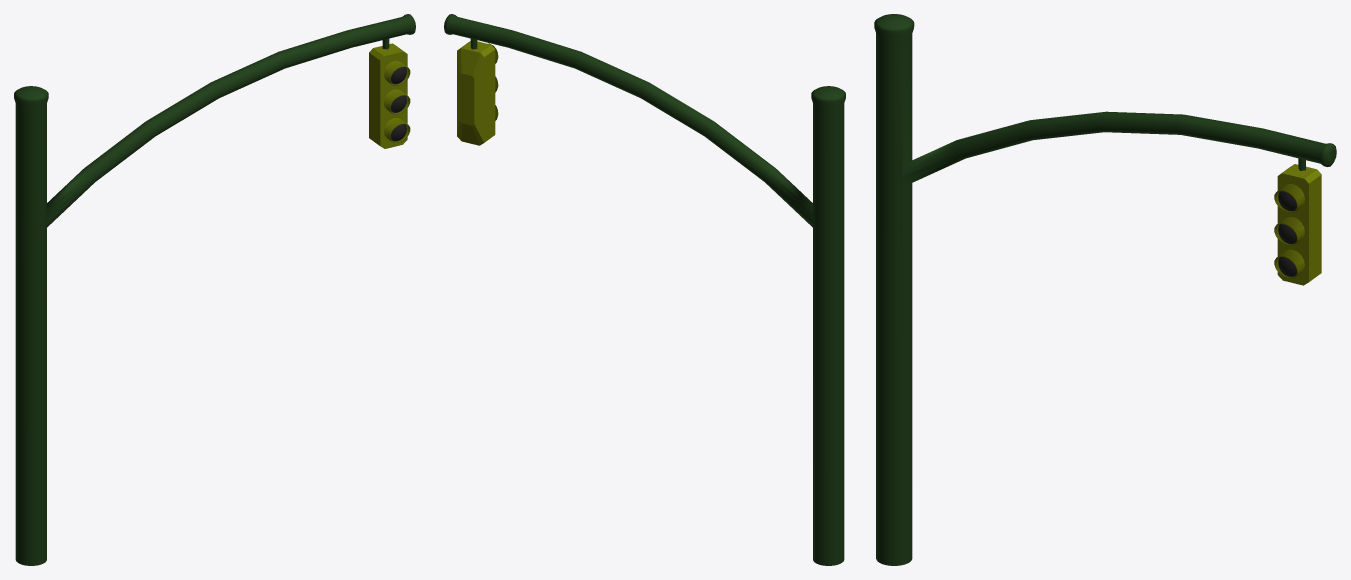
The model's file is traffic_light.glb.
3 views of the same model, side by side, from view 1: azimuth 30°, elevation 25°; view 2: azimuth 150°, elevation 25°; view 3: azimuth 330°, elevation 25° (orthographic). The views are drawn at different scales.
Visible parts, largest first — view 1: Cylinder, Cube; view 2: Cylinder, Cube; view 3: Cylinder, Cube.
Boxes of the visible parts, x1,y1,x2,y2 form: Cylinder: (14, 14, 415, 565); Cube: (369, 43, 410, 148); Cylinder: (444, 14, 845, 565); Cube: (457, 41, 498, 145); Cylinder: (874, 14, 1336, 565); Cube: (1274, 164, 1321, 285).
Size of the model in its own units: 29.08 by 32.89 by 3.1.
